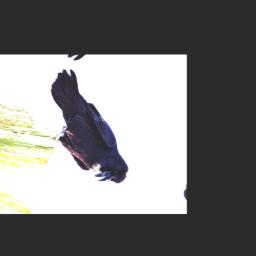Crow: (25, 66, 157, 187)
